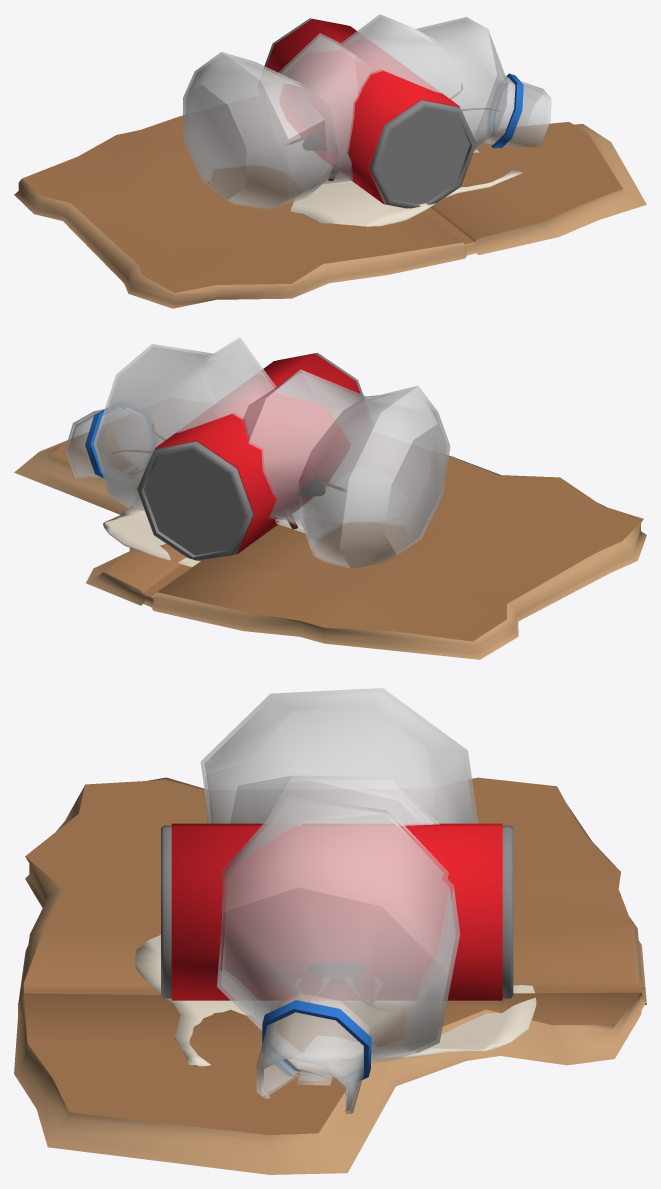
File: Trashs.fbx
3 renders of one model, top to bottom at view 1: azimuth 30°, elevation 25°; view 2: azimuth 150°, elevation 25°; view 3: azimuth 270°, elevation 25°, orthographic. The views are drawn at different scales.
Parts seen in each view (by area): view 1: Box, Plastic bottle, Can, piece of paper, cockroach; view 2: Box, Plastic bottle, Can, piece of paper, cockroach; view 3: Box, Plastic bottle, Can, piece of paper, cockroach.
Boxes of the visible parts, bbox=[...] form: Box: bbox=[14, 115, 646, 308]; Plastic bottle: bbox=[182, 14, 551, 209]; Can: bbox=[264, 18, 476, 208]; piece of paper: bbox=[290, 148, 522, 226]; cockroach: bbox=[289, 84, 498, 181]; Box: bbox=[14, 425, 646, 659]; Plastic bottle: bbox=[65, 337, 450, 568]; Can: bbox=[137, 352, 363, 560]; piece of paper: bbox=[103, 495, 371, 566]; cockroach: bbox=[112, 424, 343, 529]; Box: bbox=[14, 777, 646, 1174]; Plastic bottle: bbox=[200, 688, 478, 1113]; Can: bbox=[161, 823, 513, 1000]; piece of paper: bbox=[135, 935, 536, 1066]; cockroach: bbox=[290, 962, 393, 1011].
Bounding box in the file's own units: 487 × 143 × 340.
